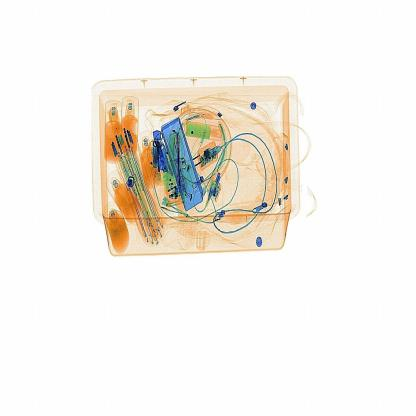knife: (167, 121, 197, 193)
